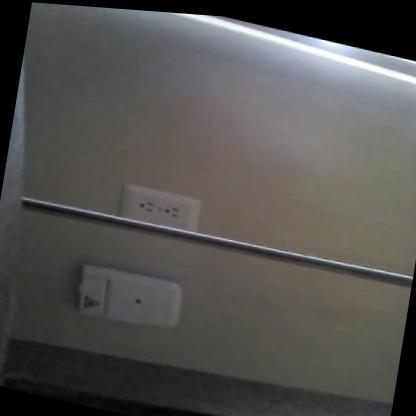OUTLET: (117, 180, 201, 233)
